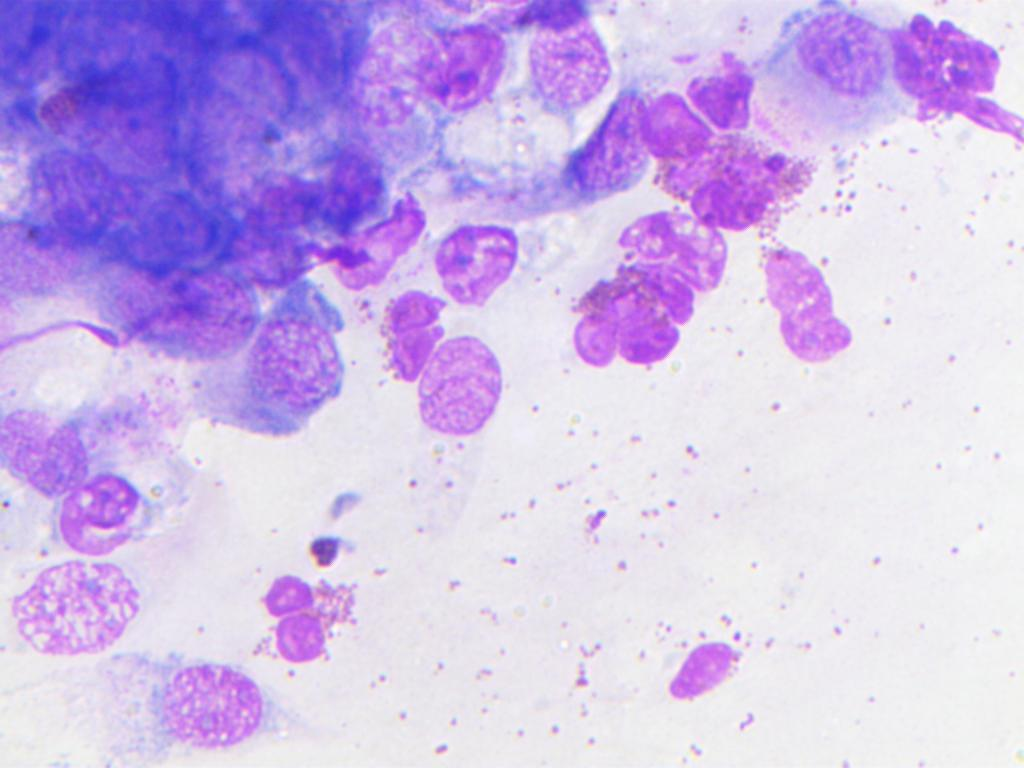artifact: (891, 17, 1024, 160), (760, 240, 860, 371)
eosinophil: (572, 209, 743, 374), (638, 90, 821, 231), (252, 573, 358, 668), (656, 631, 754, 721), (375, 289, 450, 386)
epithelial: (106, 654, 263, 767), (756, 10, 891, 130), (106, 252, 262, 354), (20, 556, 159, 666), (411, 6, 518, 124), (19, 138, 118, 256), (0, 384, 99, 499), (411, 329, 503, 446), (431, 218, 539, 309), (527, 0, 619, 106), (60, 470, 144, 558)
goblet_cell: (407, 96, 645, 203), (302, 178, 422, 291)
metaplastic: (231, 313, 351, 442)
